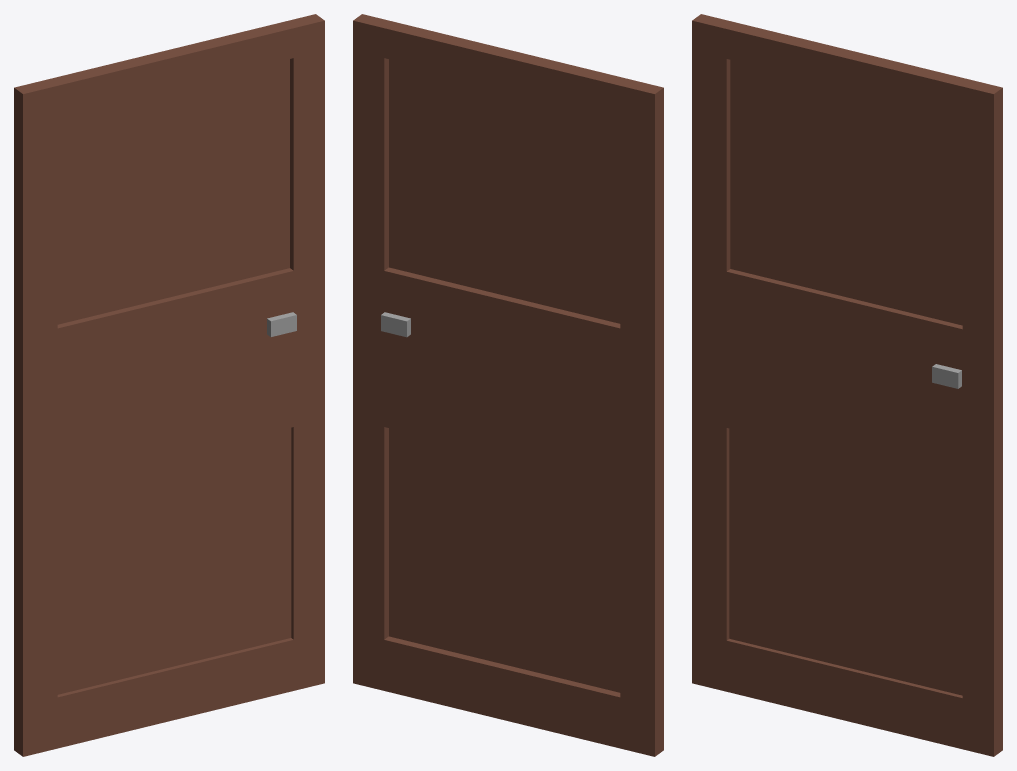
Rendered from door.glb.
3 renders of one model, left to right at view 1: azimuth 30°, elevation 25°; view 2: azimuth 150°, elevation 25°; view 3: azimuth 330°, elevation 25°, orthographic.
Parts seen in each view (by area): view 1: Cube.003; view 2: Cube.003; view 3: Cube.003.
Part boxes in pixels (x1,y1,x2,y2): Cube.003: [14, 14, 324, 756]; Cube.003: [353, 14, 663, 756]; Cube.003: [692, 14, 1002, 756].
Bounding box in the file's own units: 2.38 × 5 × 0.2308.
